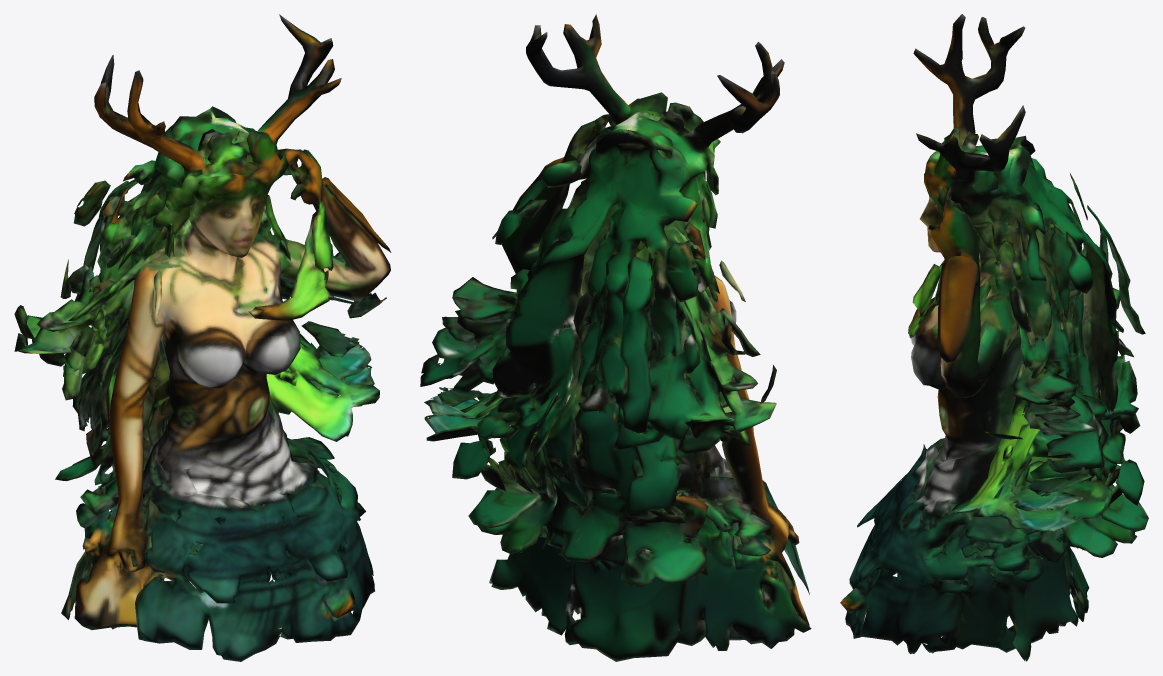
The model's file is Forest_Enchantress_1105020238.fbx.
3 views of the same model, side by side, from view 1: azimuth 30°, elevation 25°; view 2: azimuth 150°, elevation 25°; view 3: azimuth 270°, elevation 25° (orthographic). The views are drawn at different scales.
Visible parts, largest first — view 1: Mesh_0; view 2: Mesh_0; view 3: Mesh_0.
Boxes of the visible parts, x1,y1,x2,y2 form: Mesh_0: [14, 14, 391, 661]; Mesh_0: [420, 14, 811, 661]; Mesh_0: [840, 14, 1148, 661].
Bounding box in the file's own units: 129 × 202 × 102.
1 material, 1 textured.
